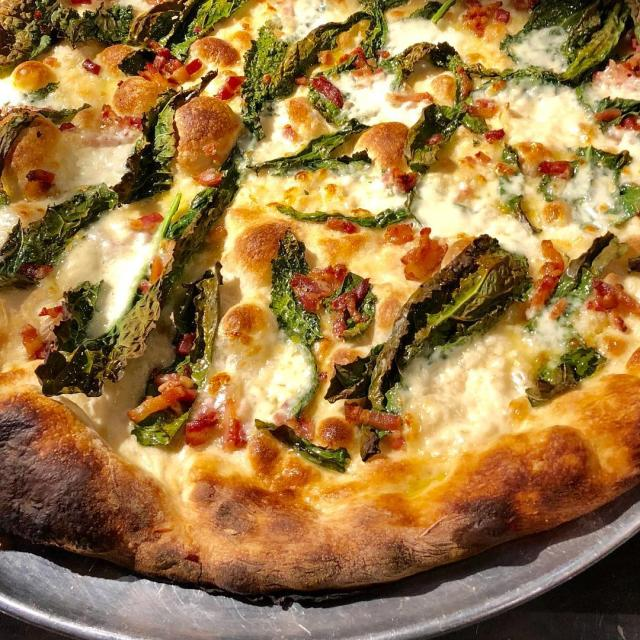basil: (89, 140, 244, 385), (387, 232, 532, 367), (111, 65, 219, 204), (0, 174, 119, 297), (490, 0, 640, 87), (533, 134, 639, 239), (323, 347, 412, 464), (34, 286, 122, 403), (259, 180, 426, 238), (0, 0, 134, 66), (395, 91, 490, 175), (123, 0, 249, 63), (261, 228, 326, 349), (240, 17, 305, 136), (544, 228, 626, 320), (522, 322, 608, 408), (249, 411, 355, 479), (392, 36, 499, 100), (314, 0, 395, 76), (488, 139, 541, 244), (561, 82, 640, 140), (126, 388, 192, 452), (332, 268, 376, 342), (30, 81, 96, 127), (305, 69, 346, 126), (0, 93, 30, 170), (405, 0, 454, 26)
pizza: (0, 0, 640, 610)
